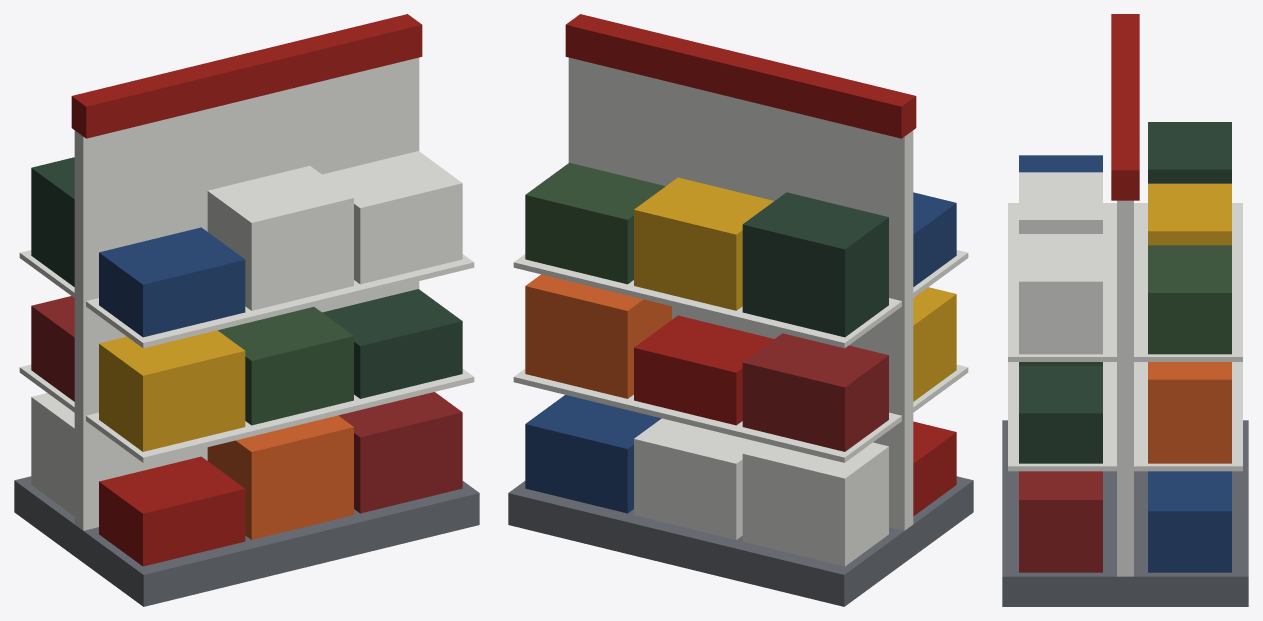
Rendered from shelf_gondola.glb.
3 renders of one model, left to right at view 1: azimuth 30°, elevation 25°; view 2: azimuth 150°, elevation 25°; view 3: azimuth 270°, elevation 25°, orthographic. The views are drawn at different scales.
Parts seen in each view (by area): view 1: shelf_gondola; view 2: shelf_gondola; view 3: shelf_gondola.
Boxes of the visible parts, x1,y1,x2,y2 form: shelf_gondola: (14, 14, 479, 606); shelf_gondola: (508, 14, 973, 606); shelf_gondola: (1002, 14, 1248, 606).
Size of the model in its own units: 1.32 by 1.72 by 0.88.
1 material, 1 textured.
